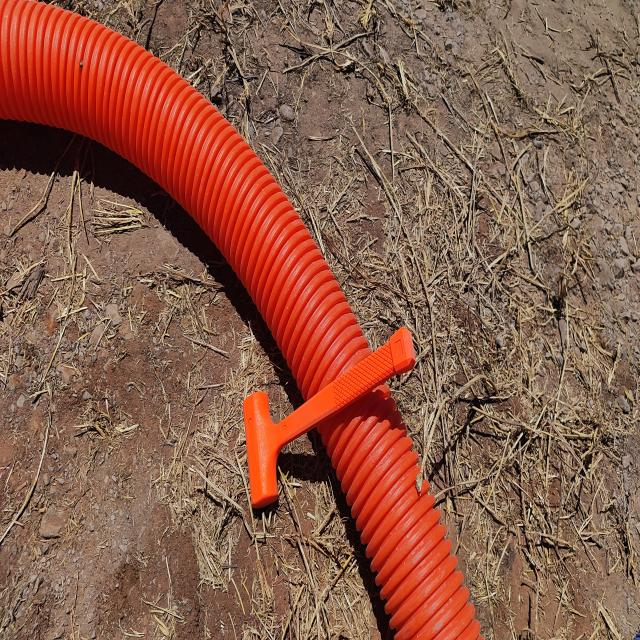Orange_hammer: (240, 321, 418, 512)
